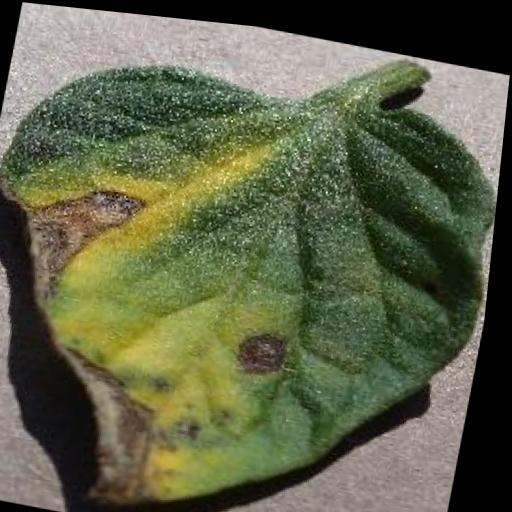Early Blight: (0, 31, 509, 512)
